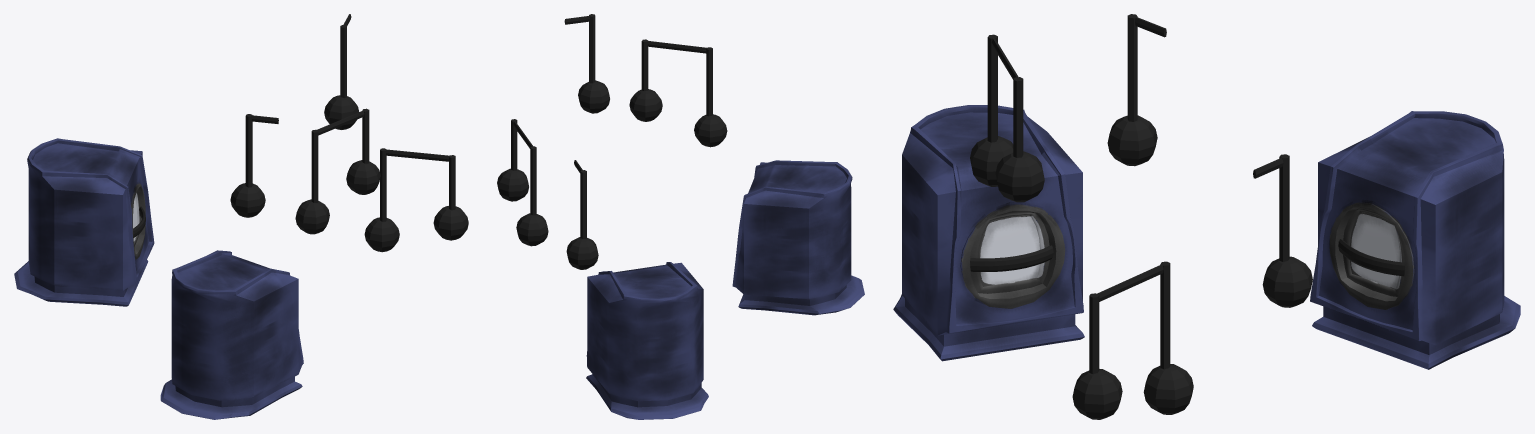
3 renders of one model, left to right at view 1: azimuth 30°, elevation 25°; view 2: azimuth 150°, elevation 25°; view 3: azimuth 270°, elevation 25°, orthographic. The views are drawn at different scales.
Parts seen in each view (by area): view 1: speaker (×2), noteBall (×4), noteBall1 (×2), noteStem (×3), noteStem1 (×2), flag; view 2: speaker (×2), noteBall (×4), noteBall1 (×2), noteStem (×3), noteStem1 (×2), flag; view 3: speaker (×2), noteBall (×4), noteStem (×4), noteBall1 (×2), noteStem1 (×2), SoundCurve (×2), flag.
Boxes of the visible parts, x1=… form: speaker (×2): x1=14, y1=138, x2=303, y2=419; noteBall (×4): x1=230, y1=95, x2=468, y2=240; noteBall1 (×2): x1=295, y1=199, x2=399, y2=252; noteStem (×3): x1=245, y1=25, x2=369, y2=187; noteStem1 (×2): x1=311, y1=129, x2=386, y2=221; flag: x1=386, y1=149, x2=449, y2=161; speaker (×2): x1=586, y1=160, x2=864, y2=419; noteBall (×4): x1=497, y1=80, x2=662, y2=269; noteBall1 (×2): x1=516, y1=114, x2=727, y2=246; noteStem (×3): x1=580, y1=14, x2=648, y2=238; noteStem1 (×2): x1=530, y1=47, x2=712, y2=215; flag: x1=647, y1=41, x2=706, y2=53; speaker (×2): x1=893, y1=105, x2=1520, y2=369; noteBall (×4): x1=995, y1=115, x2=1312, y2=419; noteStem (×4): x1=1013, y1=14, x2=1289, y2=373; noteBall1 (×2): x1=970, y1=136, x2=1193, y2=414; noteStem1 (×2): x1=987, y1=34, x2=1170, y2=369; SoundCurve (×2): x1=970, y1=239, x2=1404, y2=276; flag: x1=1097, y1=264, x2=1163, y2=301.
Size of the model in its own units: 3.69 by 3.03 by 4.05.
Materials: 2 (2 with a texture image).
